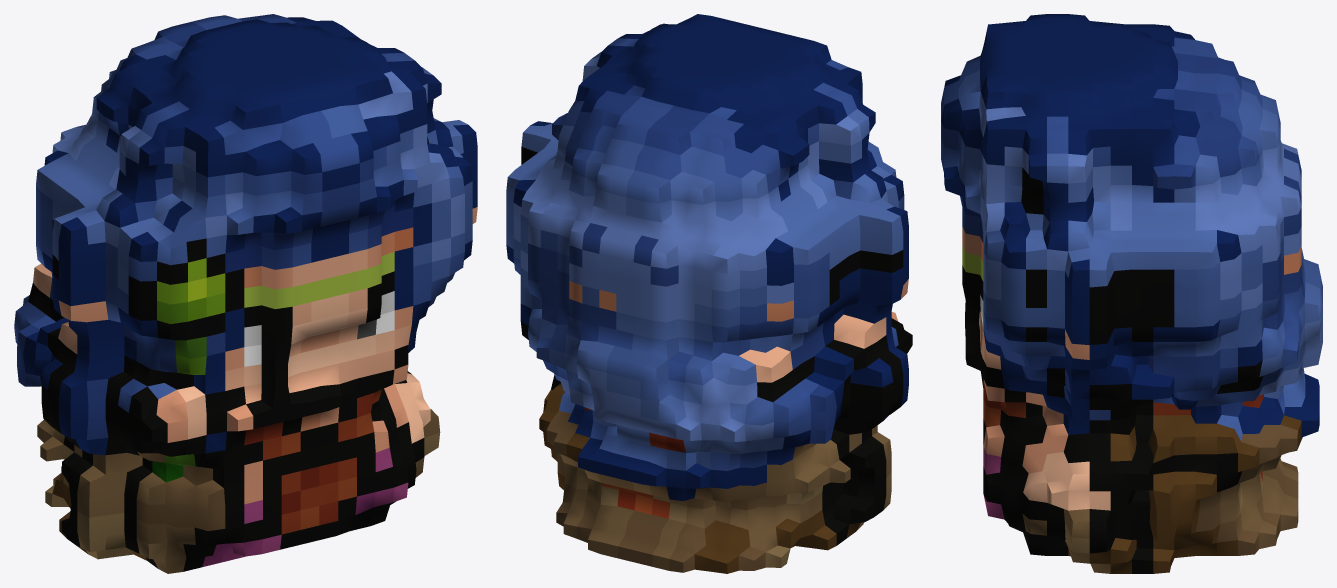
The model's file is Icon_014_03.obj.
3 renders of one model, left to right at view 1: azimuth 30°, elevation 25°; view 2: azimuth 150°, elevation 25°; view 3: azimuth 270°, elevation 25°, orthographic. The views are drawn at different scales.
Size of the model in its own units: 2.2 by 2.4 by 1.8.
Materials: 1 (1 with a texture image).
